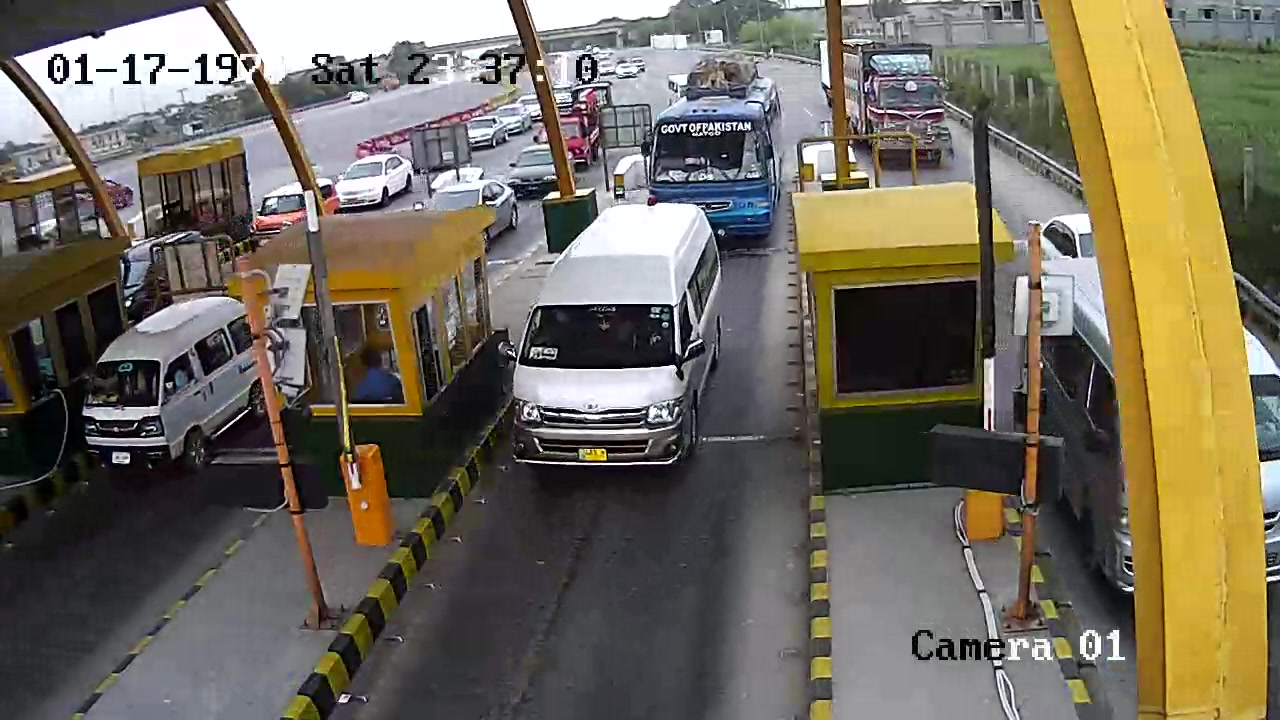F2: (493, 204, 729, 480)
